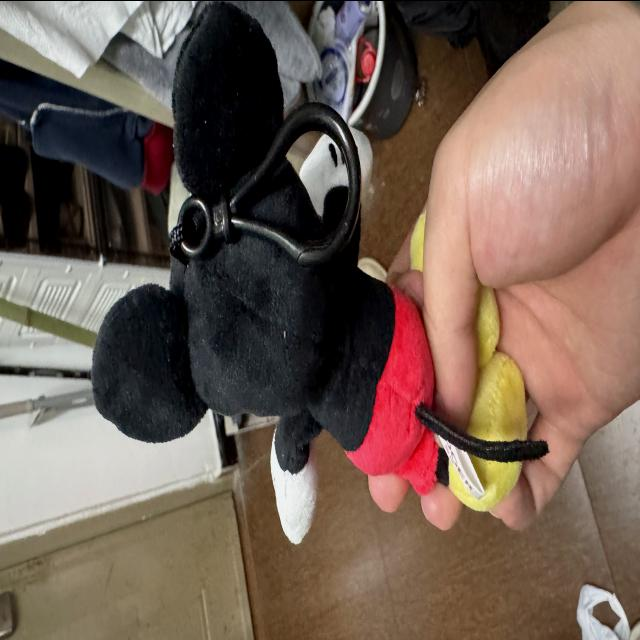mickey: (93, 230, 519, 541)
